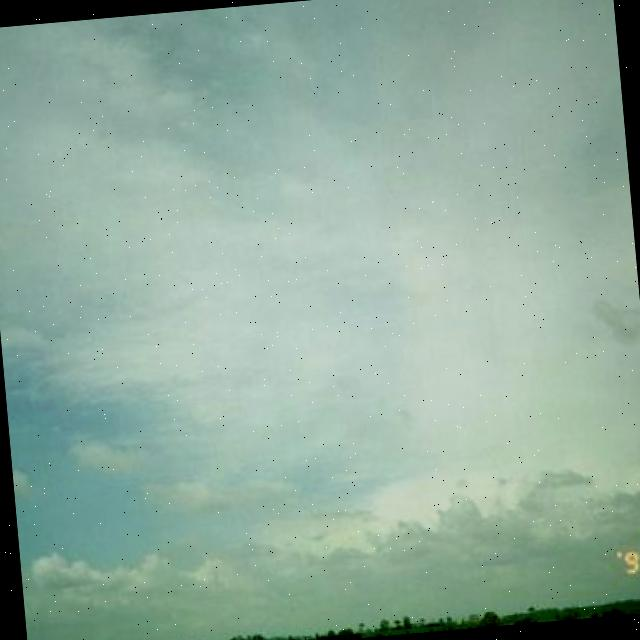Cs: (1, 4, 640, 514)
